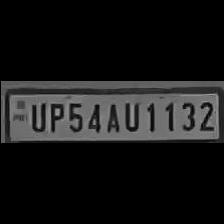1: (158, 99, 176, 134), (141, 100, 158, 132)
2: (194, 97, 216, 131)
3: (177, 97, 195, 132)
4: (84, 99, 102, 133)
5: (64, 100, 84, 132)
A: (100, 99, 119, 133)
P: (44, 99, 64, 133)
U: (119, 98, 141, 132), (25, 100, 45, 132)
